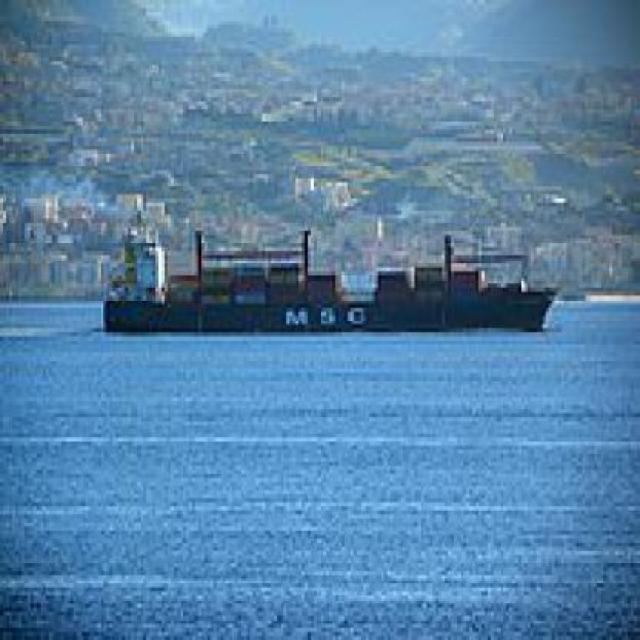container: (86, 208, 565, 349)
